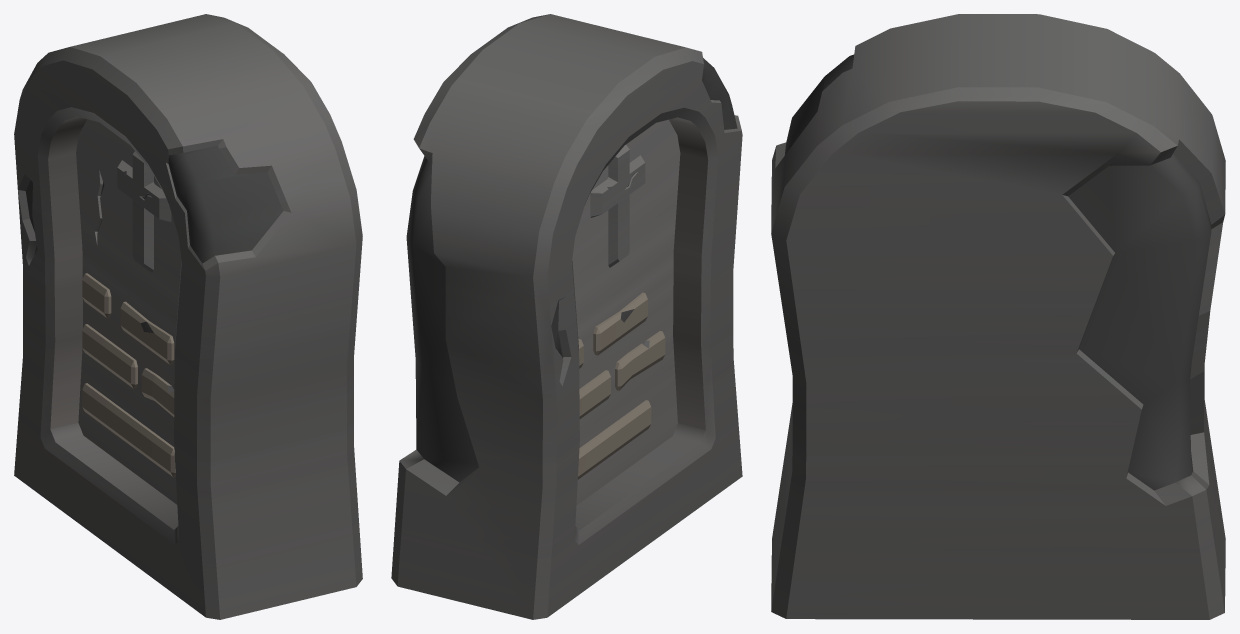
Rendered from Tombstone_3_2.glb.
The picture shows the model from 3 angles, left to right: view 1: azimuth 30°, elevation 25°; view 2: azimuth 150°, elevation 25°; view 3: azimuth 270°, elevation 25°; orthographic projection. The views are drawn at different scales.
Visible parts, largest first — view 1: Tombstone_3_2; view 2: Tombstone_3_2; view 3: Tombstone_3_2.
Boxes of the visible parts, x1=… form: Tombstone_3_2: x1=14, y1=14, x2=362, y2=619; Tombstone_3_2: x1=391, y1=14, x2=742, y2=619; Tombstone_3_2: x1=771, y1=14, x2=1225, y2=619.
Bounding box in the file's own units: 0.3085 × 0.8799 × 0.6906.
1 material, 1 textured.
